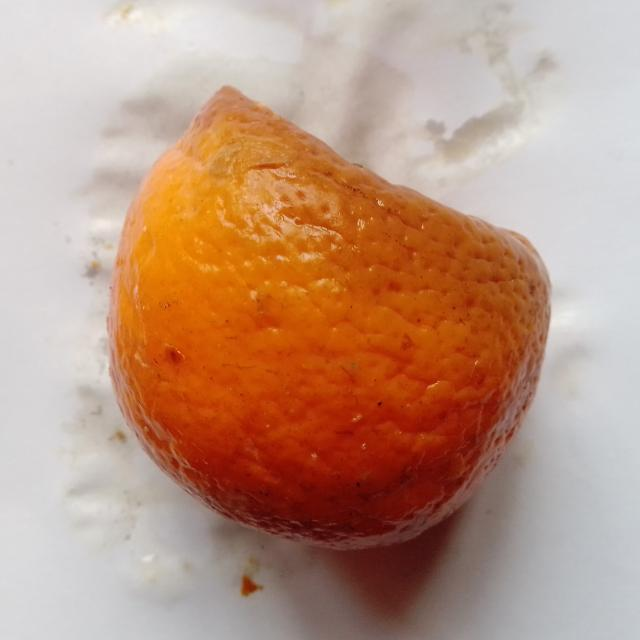orange: (109, 88, 549, 548)
